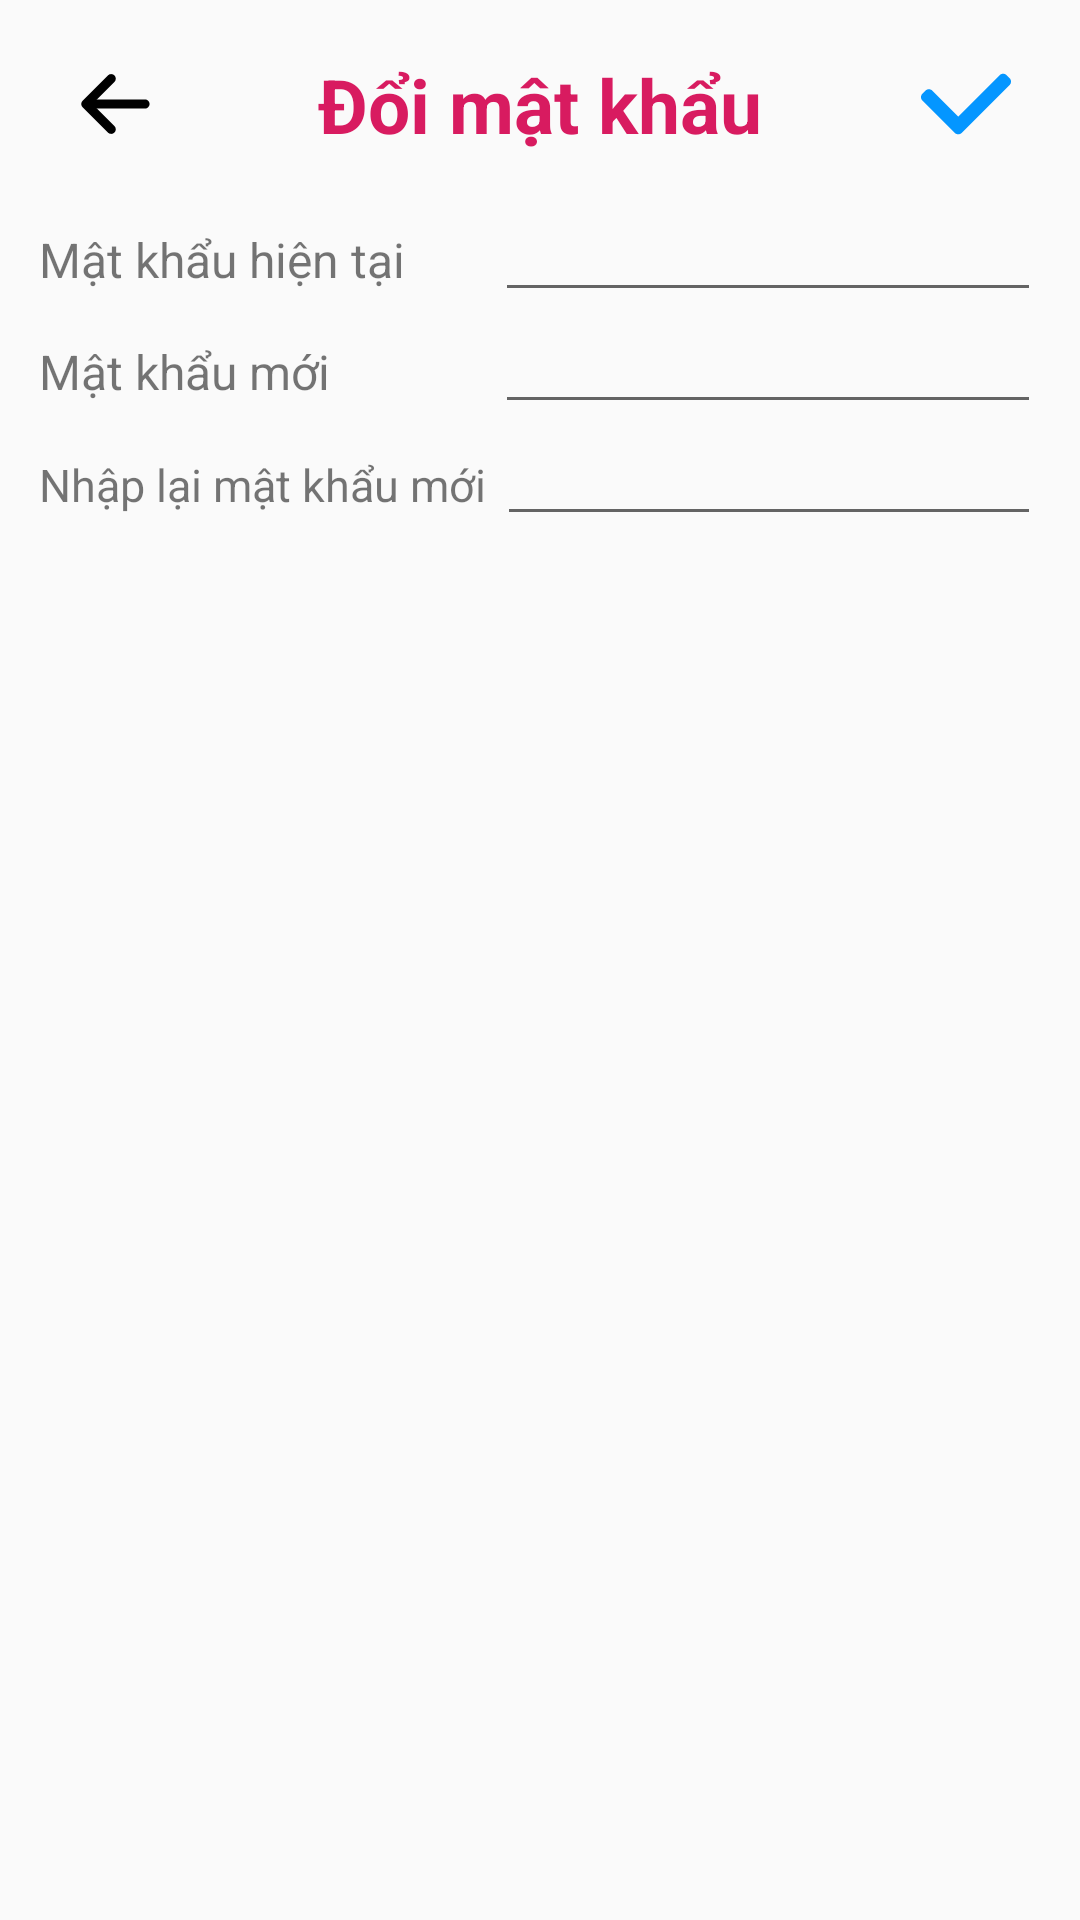

Icon bounding boxes for this 1080px x 1920px phone screenshot, format [x1,y1,x2,y2]:
confirm: [921,73,1011,135]
